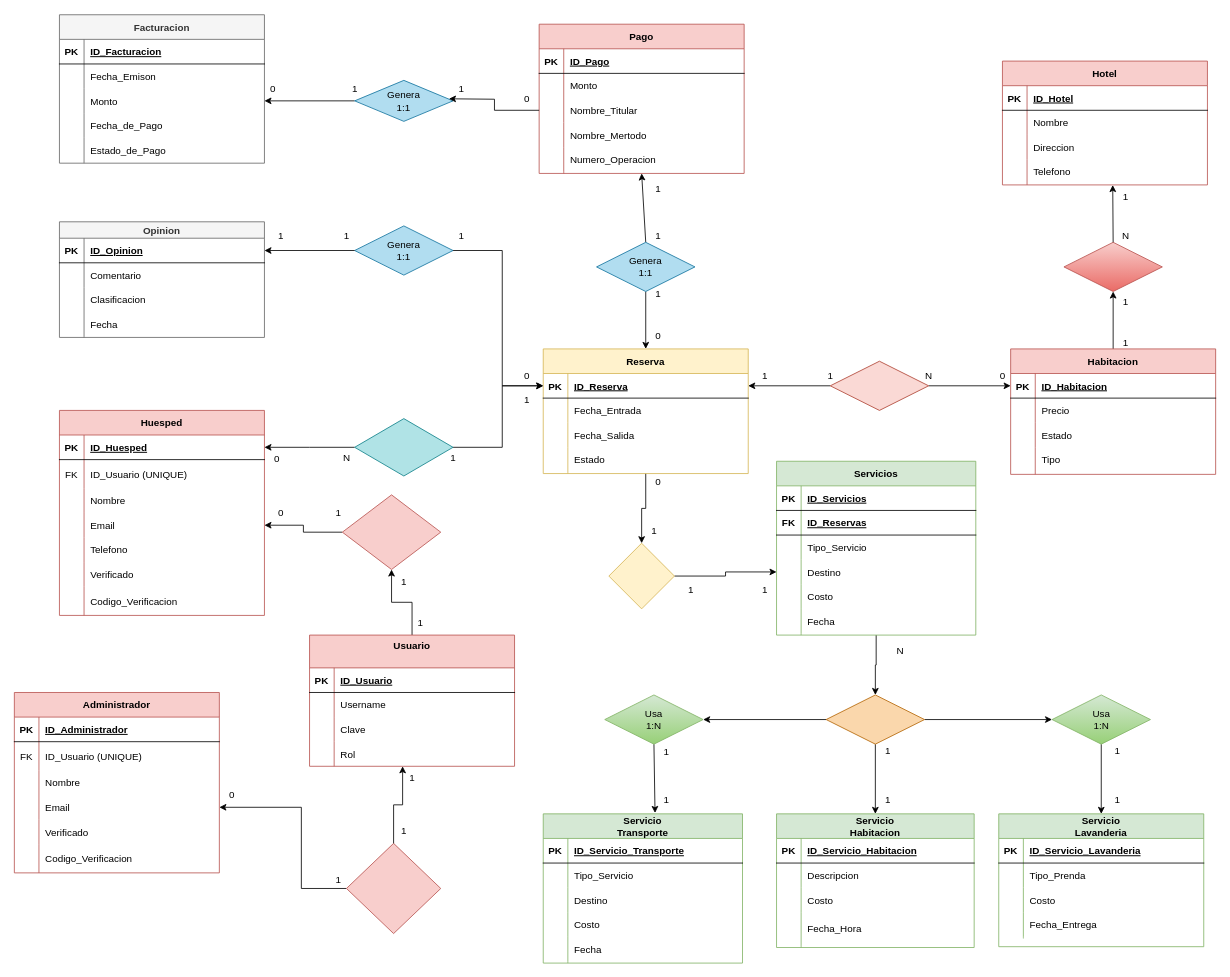
The diagram is 1230 pixels wide and 977 high, and some of its shapes have lost their labels. Here are the shapes that lost their labels. From the top down, the box of each, then its label:
(1063, 241, 1162, 292): Posee 1:N
(829, 360, 929, 410): Incluye 1:N
(354, 418, 453, 476): Realiza 1:N
(342, 494, 441, 569): Es_Huesped 1:1
(608, 542, 674, 609): Incluye 1:1
(825, 694, 925, 744): Solicita 1:N
(346, 843, 441, 934): Es_Admin 1:1
